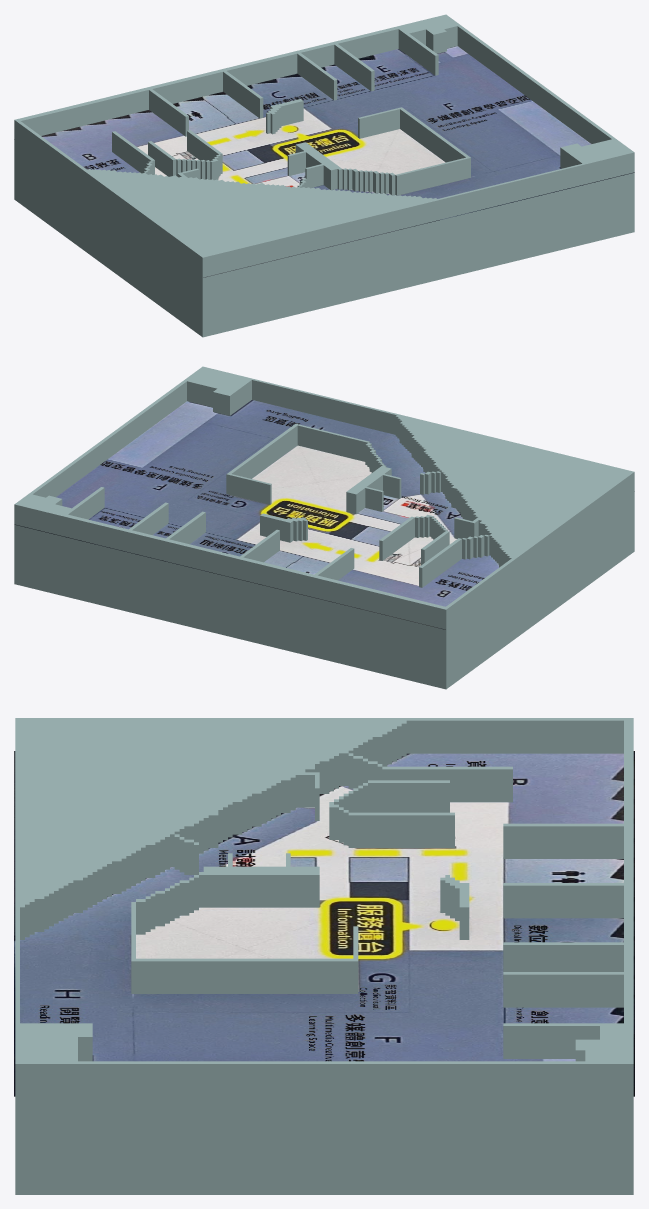
Rendered from Dah-Hsian-Library-4F-cube.glb.
3 views of the same model, one above another, from view 1: azimuth 30°, elevation 25°; view 2: azimuth 150°, elevation 25°; view 3: azimuth 270°, elevation 25° (orthographic). The views are drawn at different scales.
Visible parts, largest first — view 1: Cube, Plane; view 2: Cube, Plane; view 3: Cube, Plane.
Boxes of the visible parts, x1,y1,x2,y2 form: Cube: (14, 14, 634, 337); Plane: (41, 46, 634, 277); Cube: (14, 366, 634, 689); Plane: (14, 400, 498, 629); Cube: (15, 718, 633, 1194); Plane: (14, 751, 634, 1096).
Size of the model in its own units: 17 by 3 by 12.9.
Materials: 2 (1 with a texture image).
